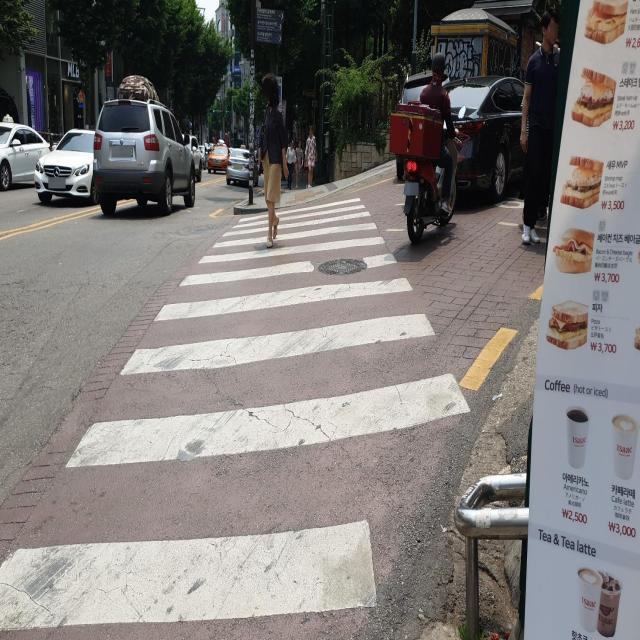횡단보도: (0, 191, 474, 640)
